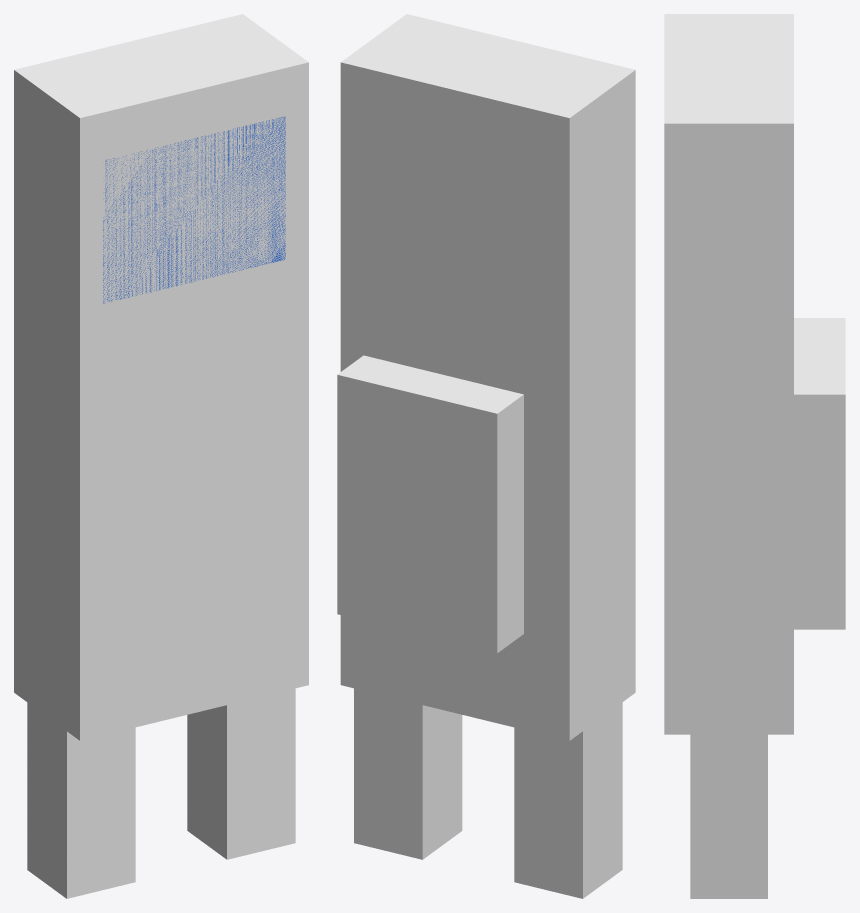
File: Among Us Char(White).gltf
3 views of the same model, side by side, from view 1: azimuth 30°, elevation 25°; view 2: azimuth 150°, elevation 25°; view 3: azimuth 270°, elevation 25° (orthographic).
Parts seen in each view (by area): view 1: 05df4ede-f837-c188-2e33-ef64abd97eee, cc3eb372-91fc-9da0-78a3-6f8f9a1f2dee, 3fa73543-9e25-d95c-6e87-302f2be02166, 2d3a24b5-ea57-e50f-346a-9413c0539ccd, 9b6c5594-3cbf-47c0-bc0a-358ef91bbe2c; view 2: cc3eb372-91fc-9da0-78a3-6f8f9a1f2dee, 05df4ede-f837-c188-2e33-ef64abd97eee, 5496d620-28b4-4bca-3728-1c5a1bee6332, 3fa73543-9e25-d95c-6e87-302f2be02166, 2d3a24b5-ea57-e50f-346a-9413c0539ccd; view 3: 05df4ede-f837-c188-2e33-ef64abd97eee, cc3eb372-91fc-9da0-78a3-6f8f9a1f2dee, 5496d620-28b4-4bca-3728-1c5a1bee6332, 2d3a24b5-ea57-e50f-346a-9413c0539ccd.
Part boxes in pixels (x1=…): 05df4ede-f837-c188-2e33-ef64abd97eee: x1=14, y1=302, x2=308, y2=740; cc3eb372-91fc-9da0-78a3-6f8f9a1f2dee: x1=14, y1=14, x2=308, y2=357; 3fa73543-9e25-d95c-6e87-302f2be02166: x1=27, y1=702, x2=135, y2=898; 2d3a24b5-ea57-e50f-346a-9413c0539ccd: x1=187, y1=688, x2=295, y2=859; 9b6c5594-3cbf-47c0-bc0a-358ef91bbe2c: x1=103, y1=116, x2=285, y2=303; cc3eb372-91fc-9da0-78a3-6f8f9a1f2dee: x1=340, y1=14, x2=635, y2=357; 05df4ede-f837-c188-2e33-ef64abd97eee: x1=340, y1=302, x2=635, y2=740; 5496d620-28b4-4bca-3728-1c5a1bee6332: x1=337, y1=355, x2=523, y2=653; 3fa73543-9e25-d95c-6e87-302f2be02166: x1=514, y1=702, x2=622, y2=898; 2d3a24b5-ea57-e50f-346a-9413c0539ccd: x1=354, y1=688, x2=462, y2=859; 05df4ede-f837-c188-2e33-ef64abd97eee: x1=664, y1=358, x2=793, y2=734; cc3eb372-91fc-9da0-78a3-6f8f9a1f2dee: x1=664, y1=14, x2=793, y2=358; 5496d620-28b4-4bca-3728-1c5a1bee6332: x1=794, y1=318, x2=845, y2=629; 2d3a24b5-ea57-e50f-346a-9413c0539ccd: x1=690, y1=734, x2=767, y2=898.
Bounding box in the file's own units: 0.625 × 2.06 × 0.4375.
4 materials, 4 textured.
